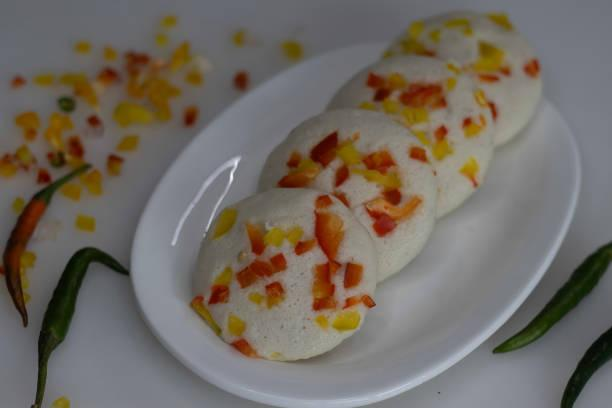idli: (202, 110, 416, 344), (369, 11, 525, 192)
